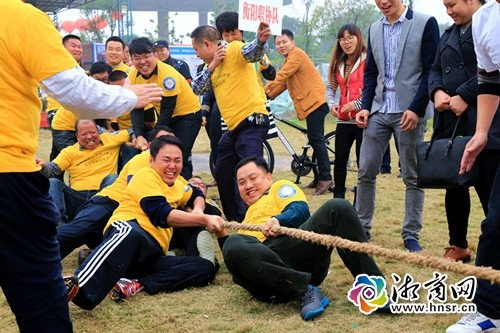falling: (36, 106, 150, 261)
